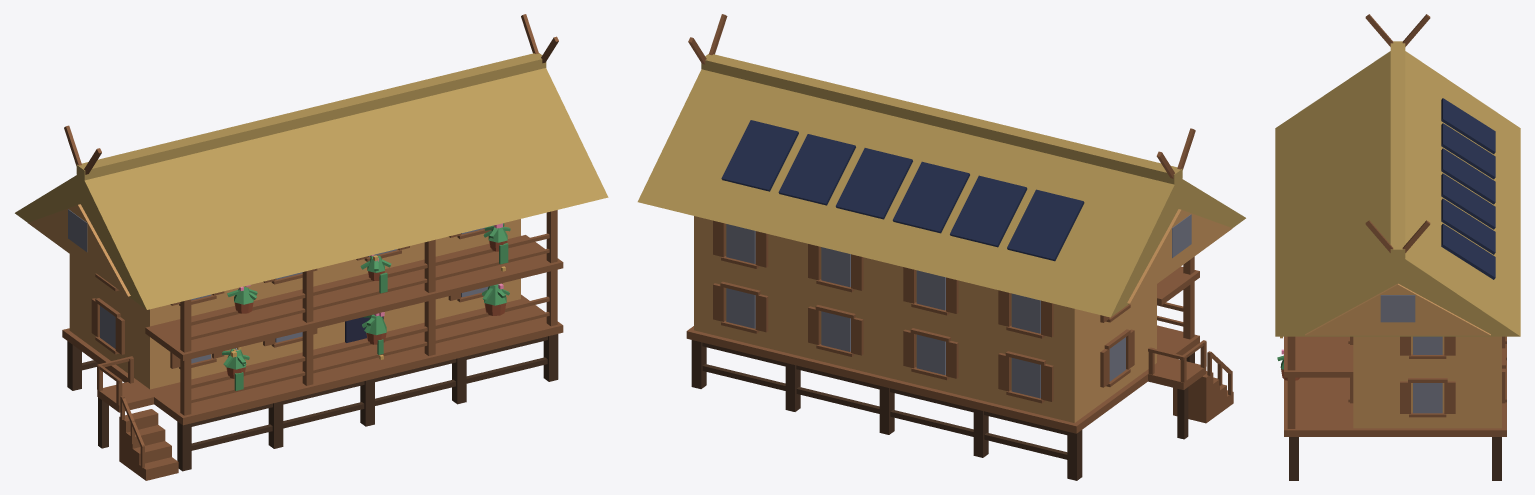
Rendered from house-2x1-2f-stilt-a-solar.glb.
3 renders of one model, left to right at view 1: azimuth 30°, elevation 25°; view 2: azimuth 150°, elevation 25°; view 3: azimuth 270°, elevation 25°, orthographic. The views are drawn at different scales.
Visible parts, largest first — view 1: house-2x1-2f-stilt-a-solar; view 2: house-2x1-2f-stilt-a-solar; view 3: house-2x1-2f-stilt-a-solar.
Boxes of the visible parts, left/top/right/bottom form: house-2x1-2f-stilt-a-solar: left=15, top=14, right=608, bottom=480; house-2x1-2f-stilt-a-solar: left=637, top=14, right=1245, bottom=480; house-2x1-2f-stilt-a-solar: left=1275, top=14, right=1520, bottom=480.
Bounding box in the file's own units: 2.02 × 1.24 × 0.99.
1 material, 1 textured.
